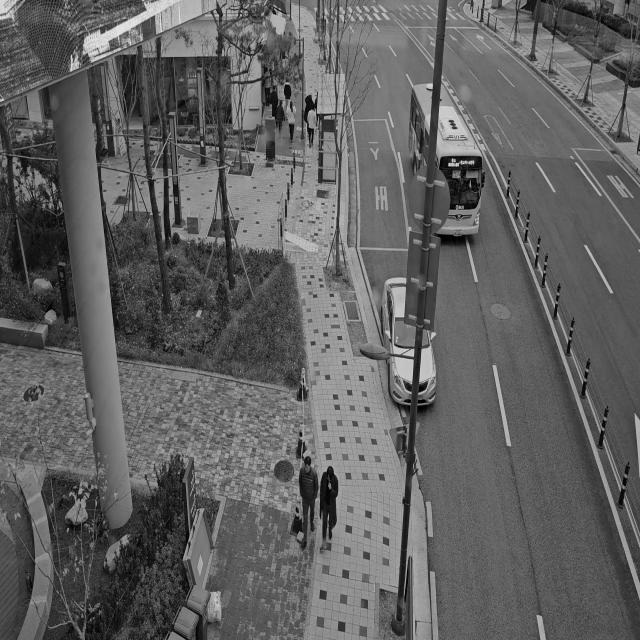Bus: (407, 76, 495, 244)
Car: (378, 269, 442, 416)
